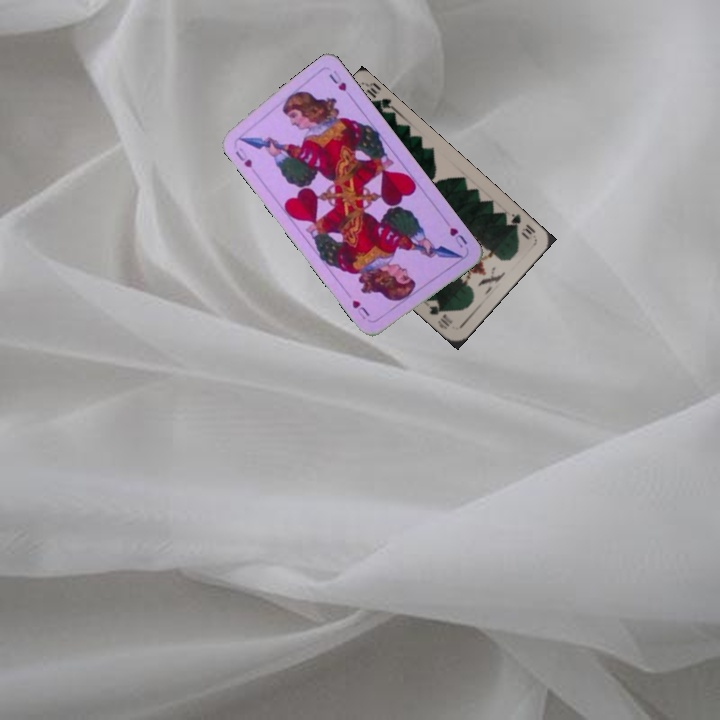G10: (501, 209, 538, 242)
HU: (445, 223, 470, 250), (231, 143, 255, 170)
